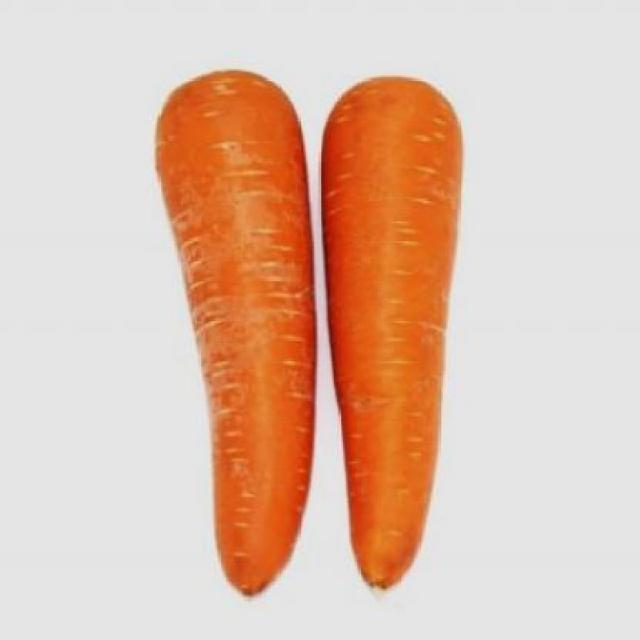carrot: (144, 68, 322, 610), (318, 72, 467, 602)
